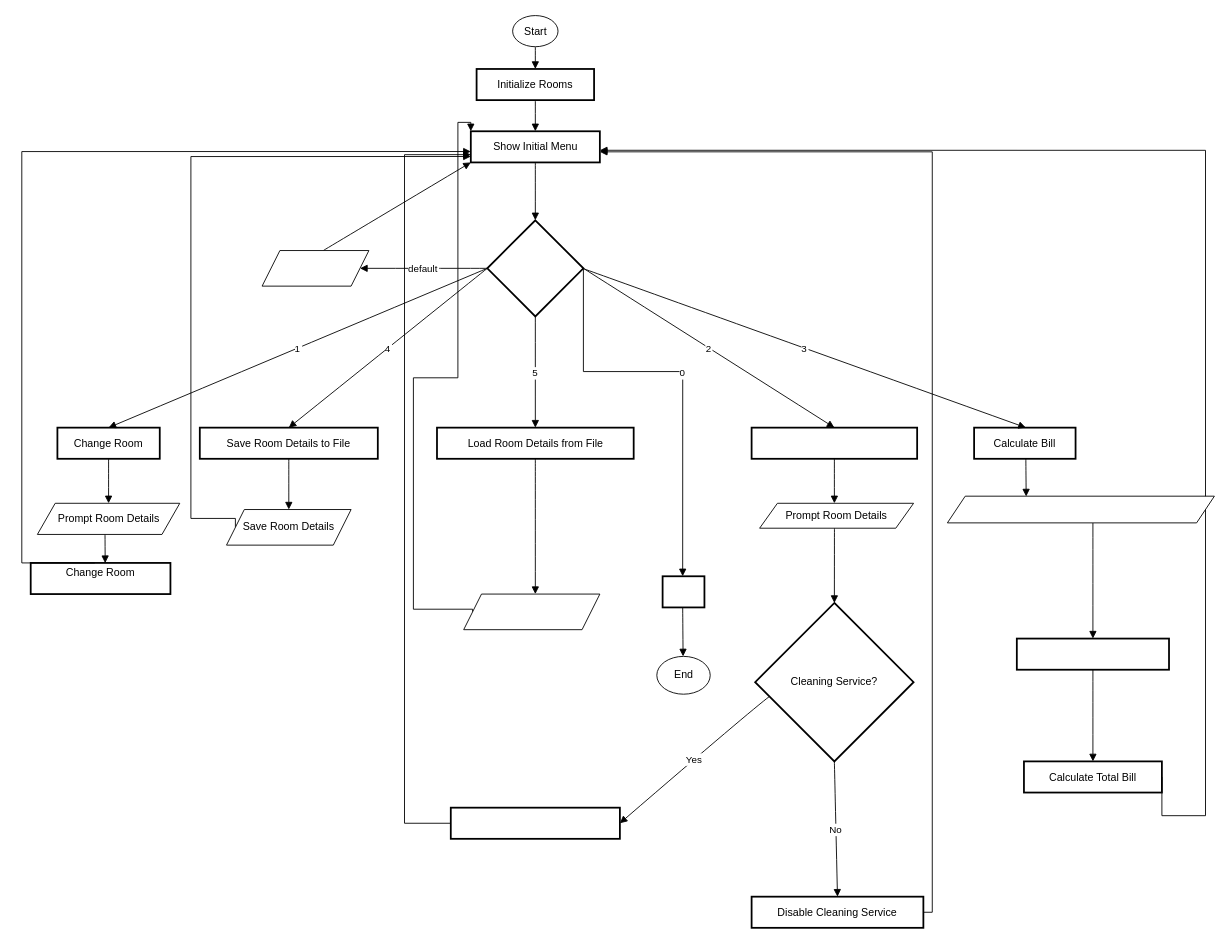
The diagram is 1230 pixels wide and 944 high, and some of its shapes have lost their labels. The shapes that lost their labels are listed below. From the top down, each one's centre as x and y in pixels, then its label:
pixel 315 268: display invalid choice
pixel 535 268: Choice?
pixel 834 442: Select Cleaning Service
pixel 1080 509: Prompt Room Details for Bill Calculation
pixel 531 611: Load Room Details
pixel 683 591: Exit
pixel 1092 653: Calculate Room Price
pixel 534 822: Enable Cleaning Service
